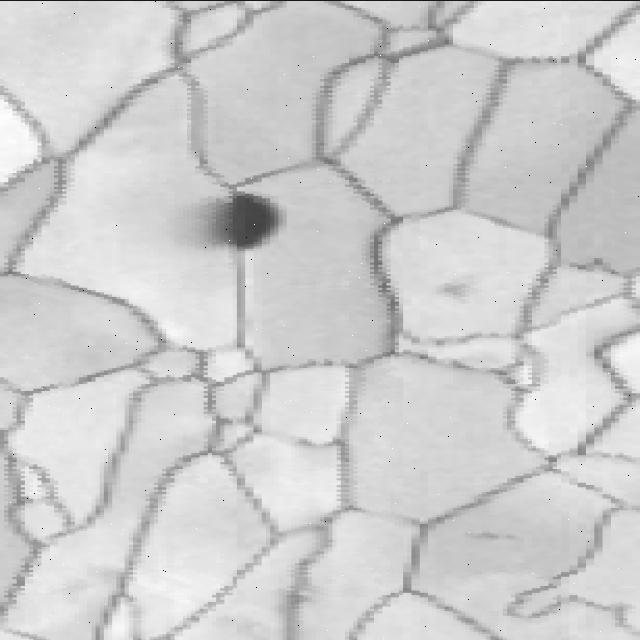good_void: (190, 187, 292, 253), (421, 275, 484, 311), (270, 571, 322, 610), (450, 522, 525, 549)
